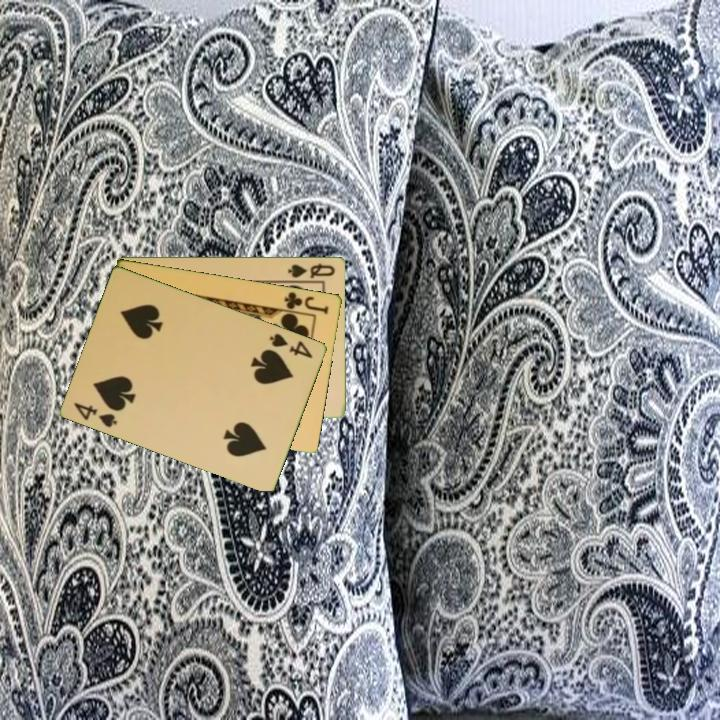4s: (266, 330, 316, 361), (71, 399, 120, 430)
Jc: (281, 288, 332, 317)
Qs: (285, 260, 338, 281)
